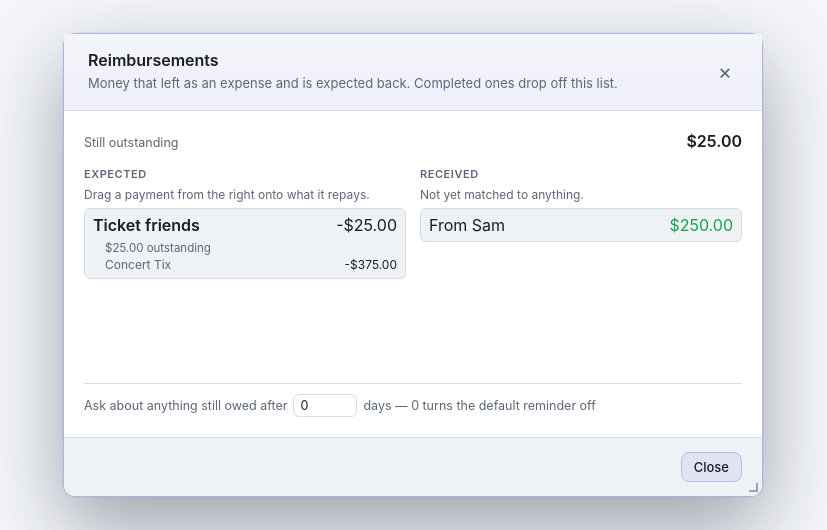
Test: dragging a payment onto what it repays › asks which portions when the dragged row is divided
Expected: the text "Ticket friends" is shown, 93,214 -> 200,234
Press the mouse on the button "From Sam $250.00" at [467, 224], box 420,208 -> 742,242
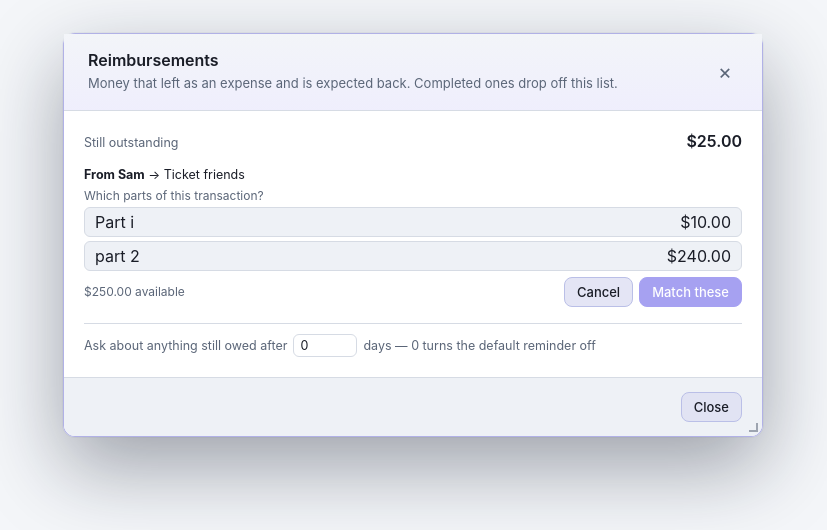
Result: the text "Which parts of this transaction?" is shown at 84,188 -> 264,202
